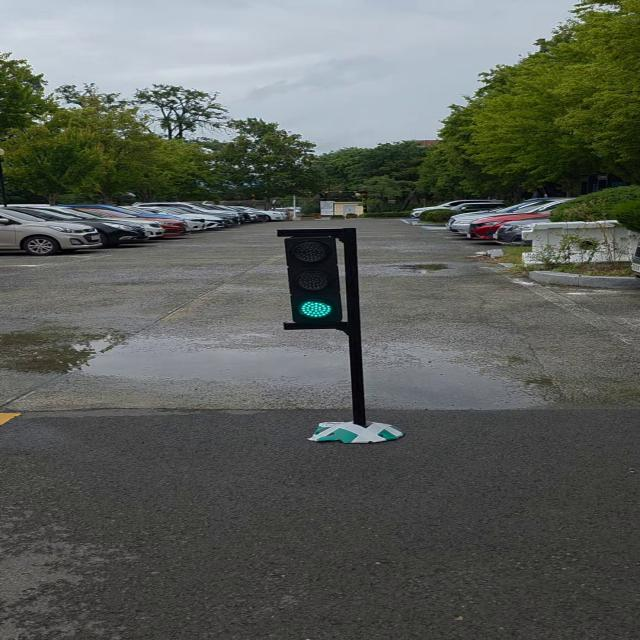green: (283, 231, 354, 328)
